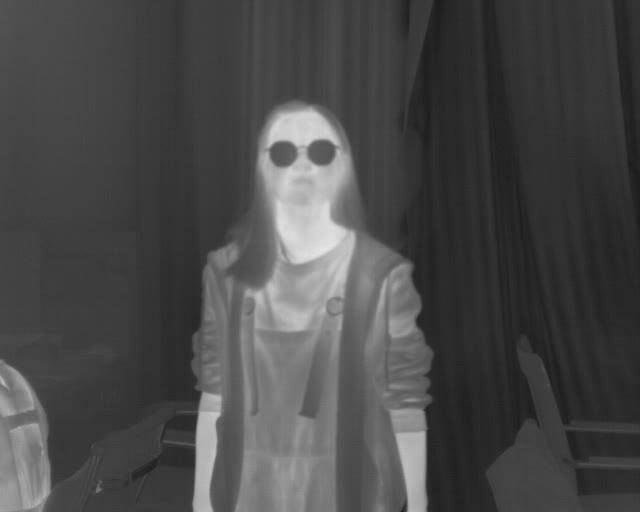face: (258, 100, 350, 209)
